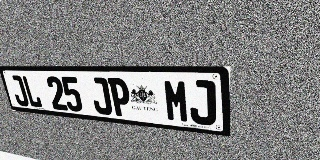2: (45, 76, 68, 111)
5: (61, 76, 84, 112)
J: (188, 80, 216, 126), (89, 77, 113, 115), (9, 75, 30, 107)
L: (21, 75, 43, 108)
M: (163, 79, 190, 123)
P: (107, 78, 132, 117)
